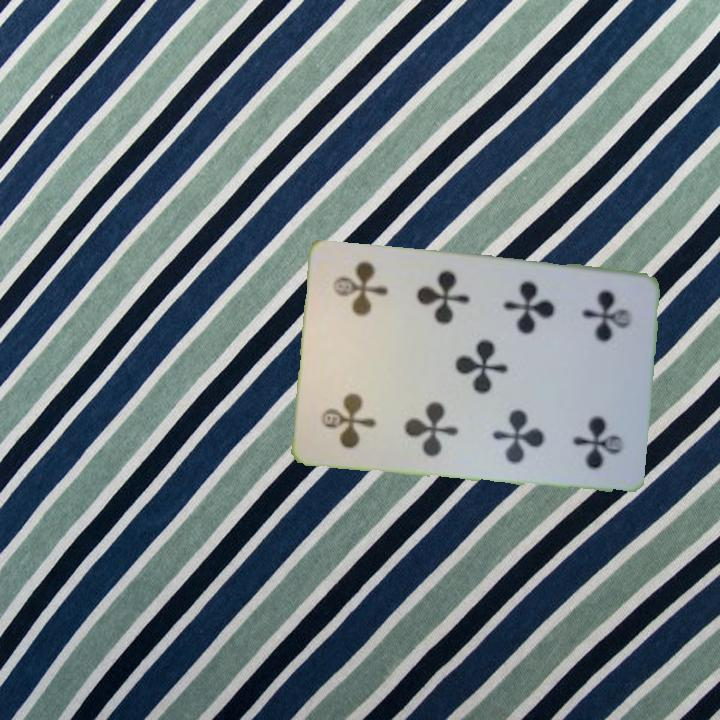c_9.png: (551, 278, 645, 385), (308, 350, 402, 457)
